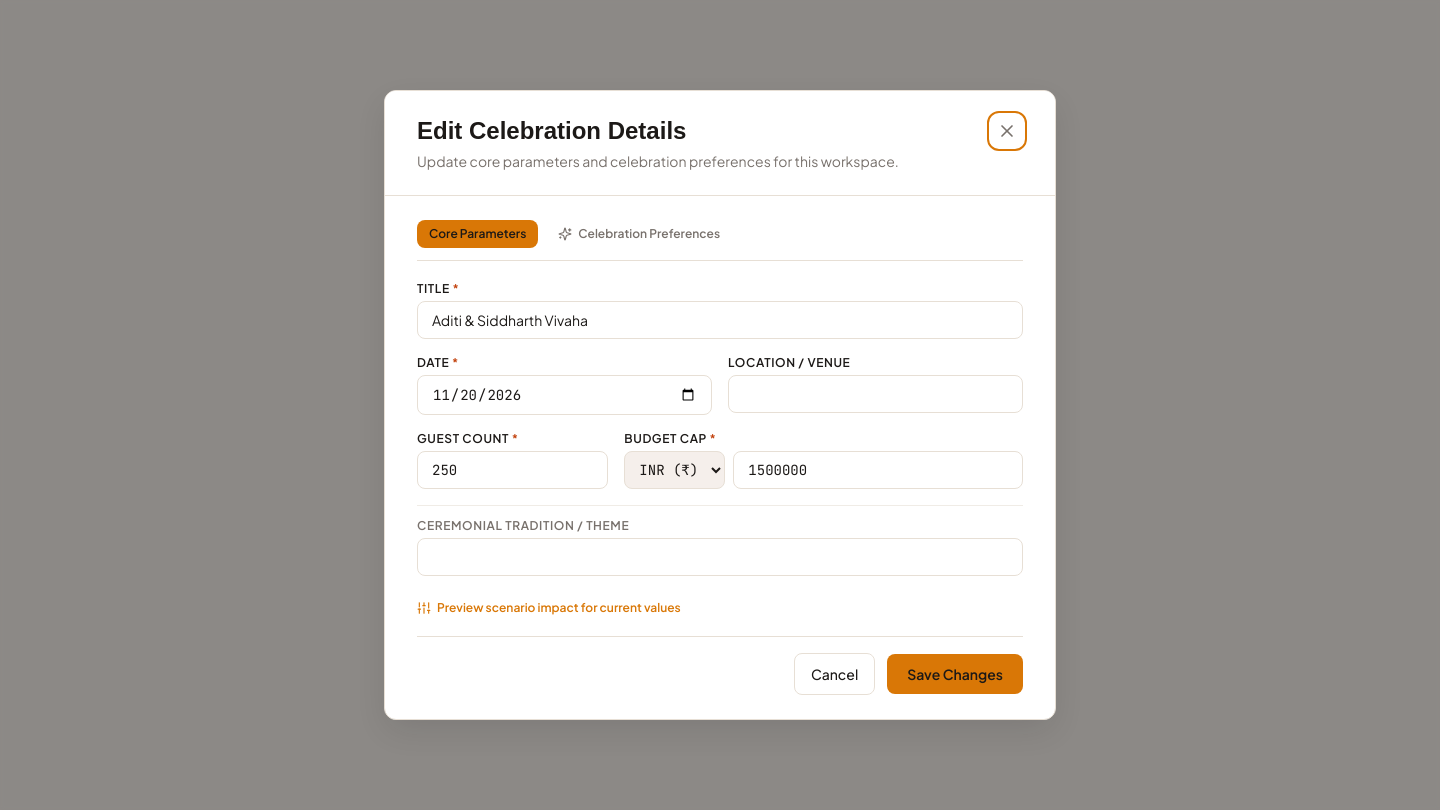
Test: EventEditDialog Component › renders live scenario impact preview when changing guest target or budget cap
Change guest count from 250 to 300
Replace the text in the number field labelled "Guest Count *" with "300". click: (513, 470)
box: [417,451,608,489]
(page scrolled)
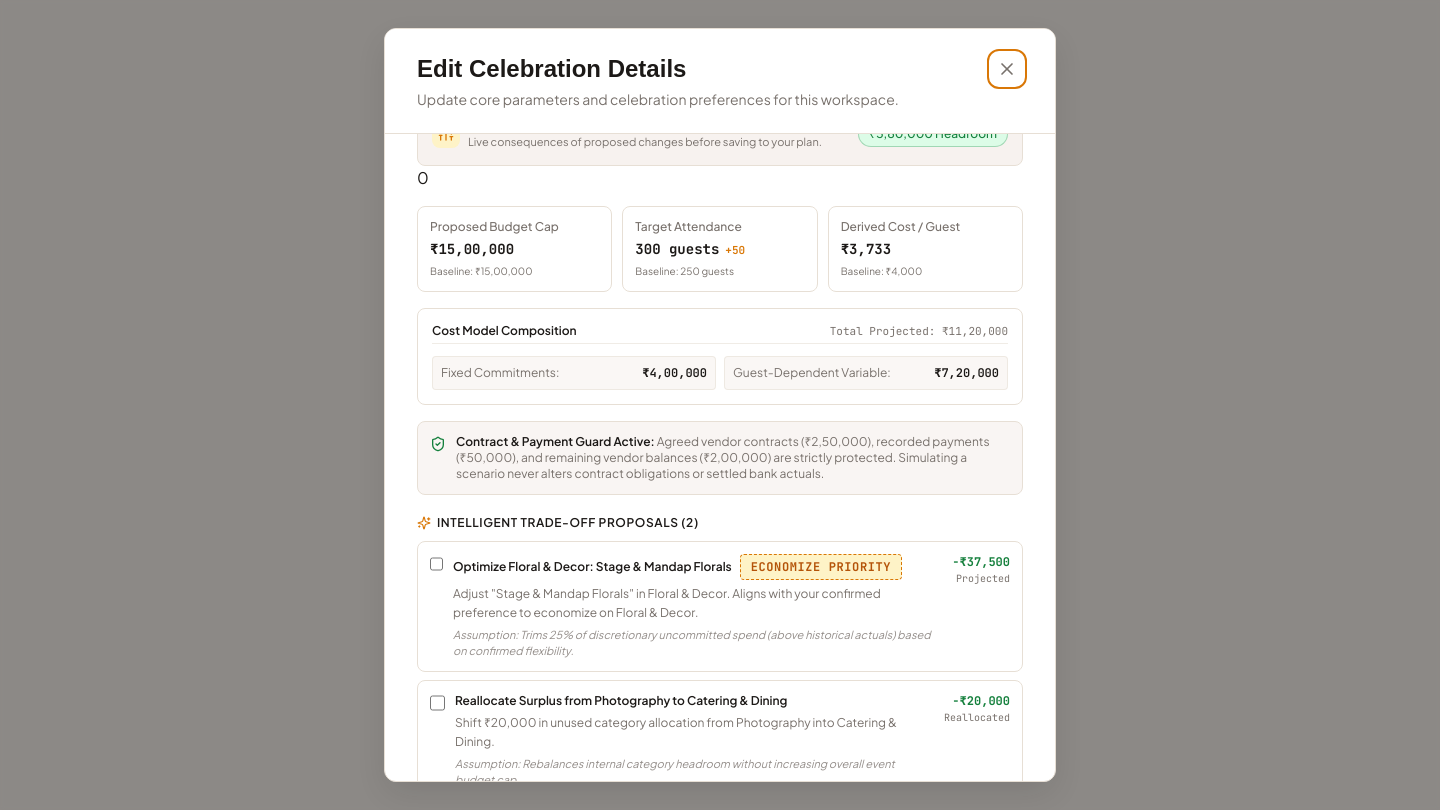
Check: the element with test id "scenario-impact-preview" is shown, box [417,134,1023,781]
Check: the text "Contract & Payment Guard Active:" is shown, box [456,434,655,448]
Check: the text "₹2,50,000" is shown, box [804,434,868,448]
